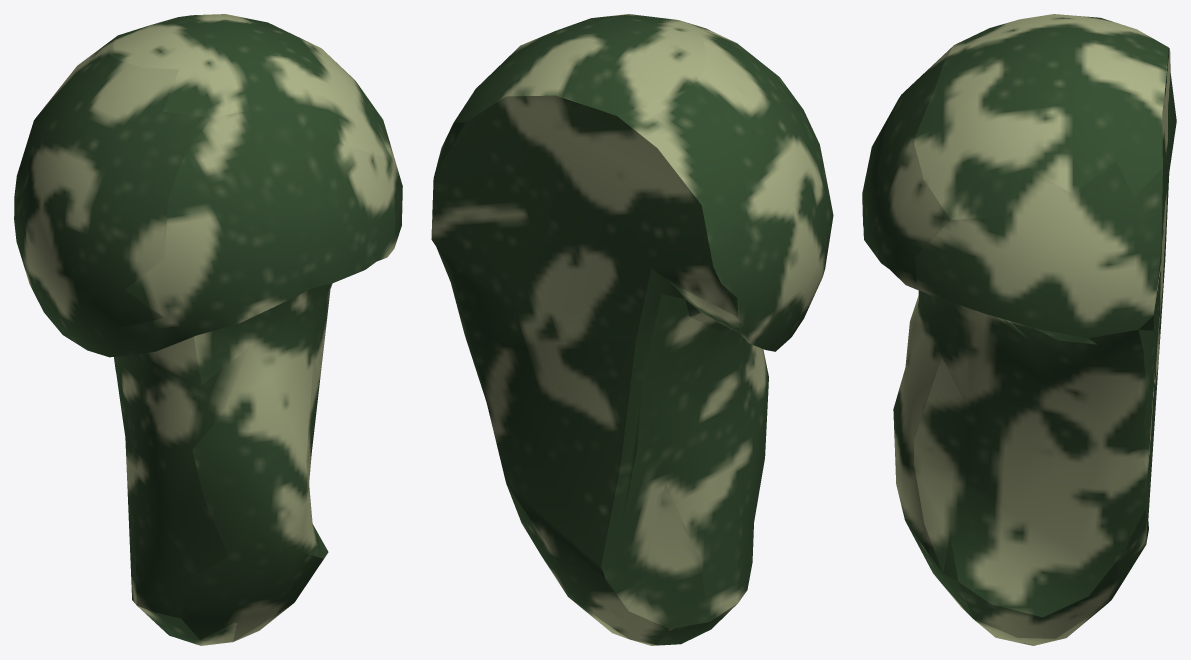
Rendered from link_leg_1_L_0_composite.obj.
3 views of the same model, side by side, from view 1: azimuth 30°, elevation 25°; view 2: azimuth 150°, elevation 25°; view 3: azimuth 270°, elevation 25° (orthographic). The views are drawn at different scales.
Parts seen in each view (by area): view 1: link_leg_1_L_0; view 2: link_leg_1_L_0; view 3: link_leg_1_L_0.
Part boxes in pixels (x1,y1,x2,y2): link_leg_1_L_0: (14, 14, 402, 645); link_leg_1_L_0: (431, 14, 833, 645); link_leg_1_L_0: (862, 14, 1176, 645).
Bounding box in the file's own units: 8.47 × 14.21 × 6.67.
Materials: 1 (1 with a texture image).
